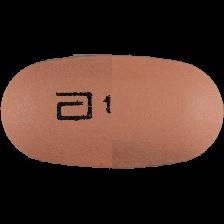54868-0017: (0, 0, 224, 224)
